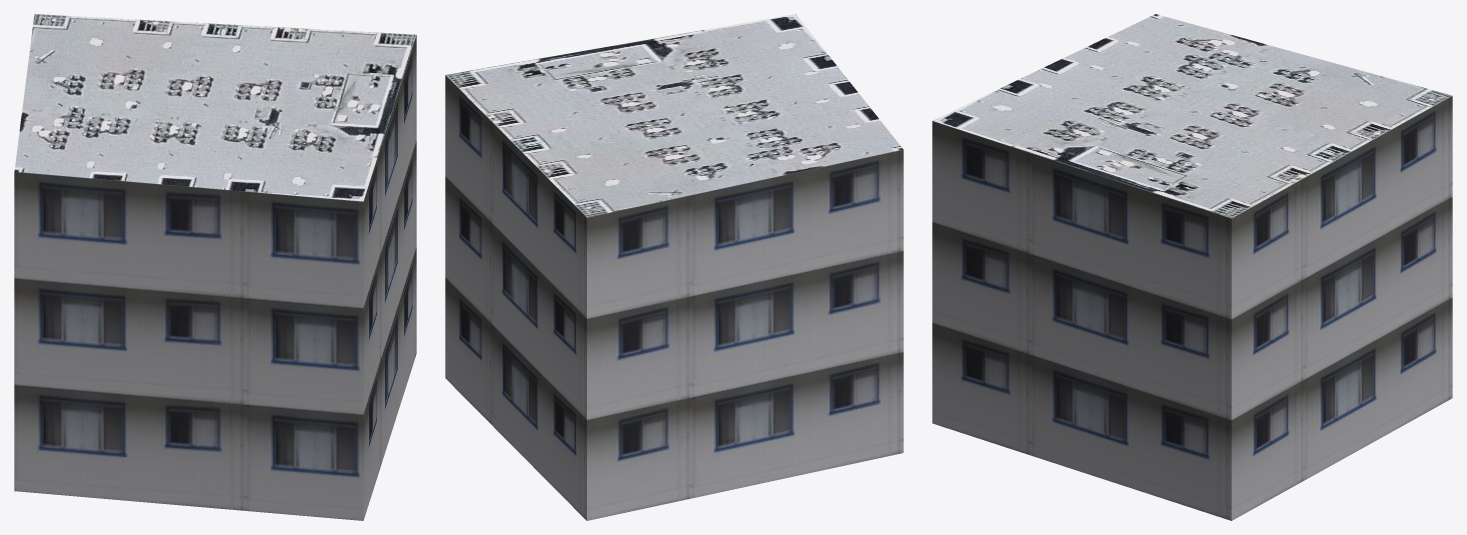
Rendered from ResTex__4928.fbx.
3 renders of one model, left to right at view 1: azimuth 30°, elevation 25°; view 2: azimuth 150°, elevation 25°; view 3: azimuth 270°, elevation 25°, orthographic. The views are drawn at different scales.
Visible parts, largest first — view 1: CityEngineMaterial_9_m, CityEngineMaterial_4_m; view 2: CityEngineMaterial_9_m, CityEngineMaterial_4_m; view 3: CityEngineMaterial_9_m, CityEngineMaterial_4_m.
Part boxes in pixels (box(x1,y1,x2,y2)): CityEngineMaterial_9_m: box(14, 35, 416, 520); CityEngineMaterial_4_m: box(14, 14, 416, 201); CityEngineMaterial_9_m: box(445, 75, 903, 520); CityEngineMaterial_4_m: box(446, 14, 903, 217); CityEngineMaterial_9_m: box(932, 96, 1452, 520); CityEngineMaterial_4_m: box(933, 14, 1451, 218).
Bounding box in the file's own units: 13.04 × 9 × 14.02.
2 materials, 2 textured.
